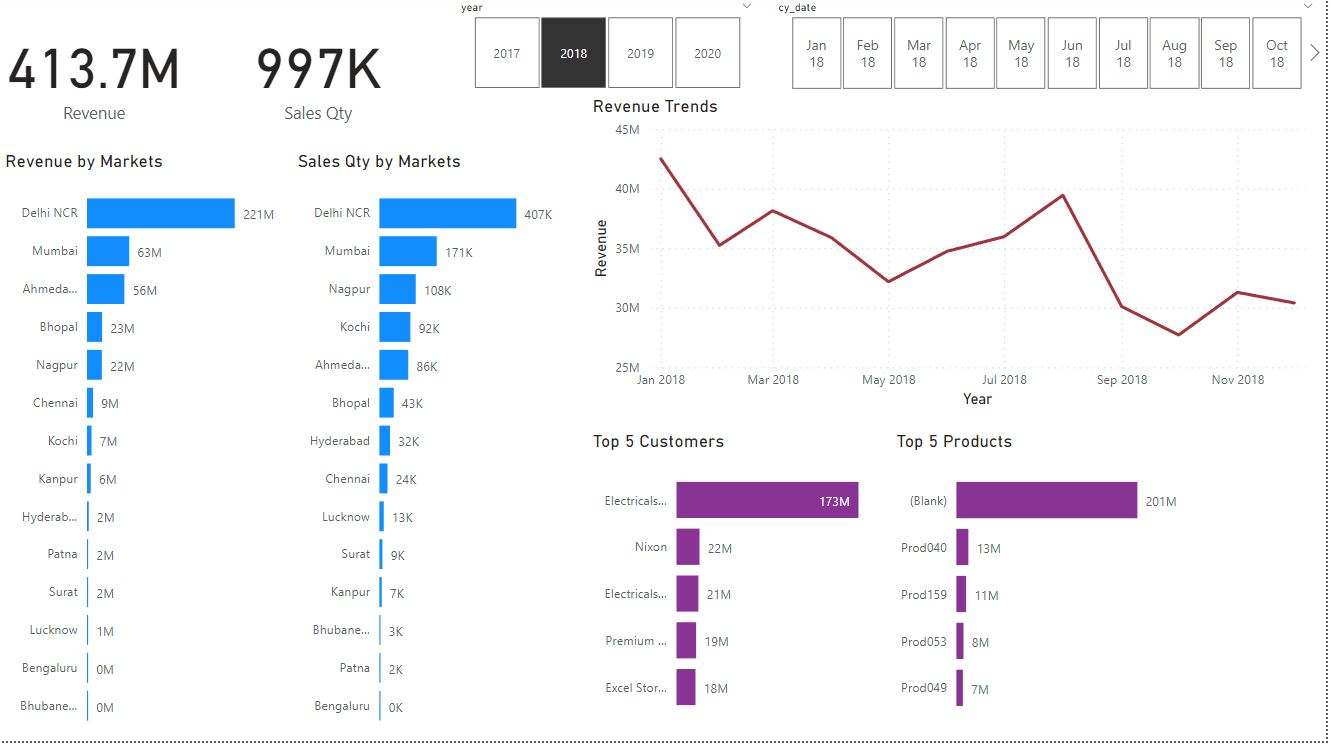

The dashboard page shown, as its layout file describes it:
{"tool":"powerbi","page":{"name":"Page 1","canvas":[1280,720],"ordinal":0},"visuals":[{"type":"card","fields":{"Values":["Base Measure.Revenue"]},"box":[0,0,182.1,149.5],"z":0},{"type":"card","fields":{"Values":["Base Measure.Sales Qty"]},"box":[182.1,0,249.6,149.5],"z":1000},{"type":"barChart","title":"Revenue by Markets","fields":{"Y":["Base Measure.Revenue"],"Category":["sales markets.markets_name"]},"box":[0,149.5,282.2,570.5],"z":2000},{"type":"barChart","title":"Sales Qty by Markets","fields":{"Y":["Base Measure.Sales Qty"],"Category":["sales markets.markets_name"]},"box":[282.2,149.5,283.4,570.5],"z":3000},{"type":"slicer","fields":{"Values":["sales date.year"]},"box":[431.8,0,306.3,96.5],"z":4000},{"type":"slicer","fields":{"Values":["sales date.cy_date"]},"box":[738.1,0,541.5,97.7],"z":4001},{"type":"barChart","title":"Top 5 Customers","fields":{"Y":["Base Measure.Revenue"],"Category":["sales customers.custmer_name"]},"box":[566.7,419.9,293.7,289.5],"z":4002},{"type":"barChart","title":"Top 5 Products","fields":{"Y":["Base Measure.Revenue"],"Category":["sales products.product_code"]},"box":[860.4,419.9,329.3,290.9],"z":4003},{"type":"lineChart","title":"Revenue Trends","fields":{"Y":["Base Measure.Revenue"],"Category":["sales date.cy_date.Variation.Date Hierarchy.Year","sales date.cy_date.Variation.Date Hierarchy.Quarter","sales date.cy_date.Variation.Date Hierarchy.Month","sales date.cy_date.Variation.Date Hierarchy.Day"]},"box":[566.8,96.5,712.8,306.3],"z":4004}]}

Visuals, with their boxes in screenshot pixels (x1, y1, x2, y2), scaled from the page's 1280x720 canvas onto the 1331x746 screenshot:
card - Base Measure.Revenue: (0, 0, 189, 155)
card - Base Measure.Sales Qty: (189, 0, 449, 155)
"Revenue by Markets" barChart: (0, 155, 293, 745)
"Sales Qty by Markets" barChart: (293, 155, 588, 745)
slicer - sales date.year: (449, 0, 768, 100)
slicer - sales date.cy_date: (768, 0, 1330, 101)
"Top 5 Customers" barChart: (589, 435, 895, 735)
"Top 5 Products" barChart: (895, 435, 1237, 736)
"Revenue Trends" lineChart: (589, 100, 1330, 417)
